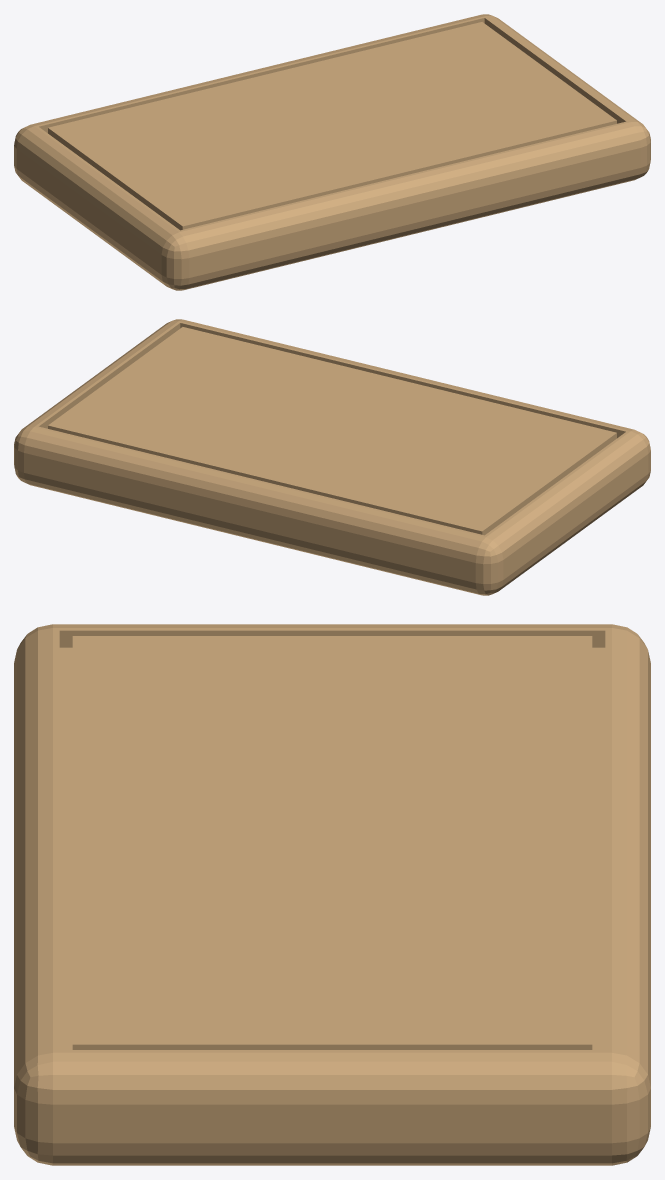
The model's file is cuttingboard.fbx.
3 renders of one model, top to bottom at view 1: azimuth 30°, elevation 25°; view 2: azimuth 150°, elevation 25°; view 3: azimuth 270°, elevation 25°, orthographic. The views are drawn at different scales.
Visible parts, largest first — view 1: Plane; view 2: Plane; view 3: Plane.
Part boxes in pixels (left/top/right/bottom): Plane: left=14, top=14, right=650, bottom=290; Plane: left=14, top=319, right=650, bottom=595; Plane: left=14, top=624, right=650, bottom=1165.
Bounding box in the file's own units: 8878 × 988 × 5219.
